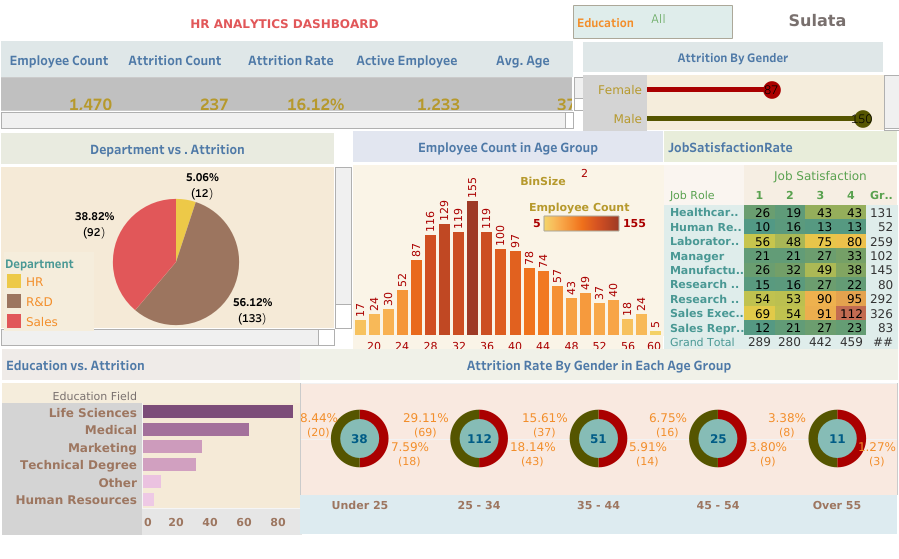

This screenshot's page, from the dashboard's own definition file:
{"tool":"tableau","page":{"name":"HR Analytics Dashboard","canvas":[1000,1000],"units":"permille","ordinal":1},"visuals":[{"type":"filter","title":"Department vs . Attrition","param":"[federated.0rsjfcx0jn54d91c8sx7d0d5vckq].[none:Education:nk]","box":[636.7,8.4,177.8,60.7]},{"type":"text","box":[820,8.4,176.7,55.6]},{"type":"worksheet","title":"KPI","mark":"Automatic","box":[1.1,72.5,655.6,158.5]},{"type":"worksheet","title":"Attrition By Gender","mark":"Automatic","rows":["Gender"],"cols":["Calculation_924645360220266496","Calculation_924645360220266496"],"box":[647.8,74.2,353.3,158.5]},{"type":"worksheet","title":"Employee Count in Age Group","mark":"Automatic","rows":["Employee Count"],"cols":["Age (bin)"],"box":[392.2,234.4,344.4,399.7]},{"type":"worksheet","title":"JobSatisfactionRate","mark":"Square","rows":["Job Role"],"cols":["Job Satisfaction"],"box":[737.8,234.4,258.9,389.5]},{"type":"worksheet","title":"Department vs . Attrition","mark":"Pie","box":[1.1,237.8,390,379.4]},{"type":"parameter","param":"[Parameters].[Parameter 1]","box":[563.3,296.8,168.9,50.6]},{"type":"legend","title":"Employee Count in Age Group","param":"[federated.0rsjfcx0jn54d91c8sx7d0d5vckq].[sum:Employee Count:qk]","box":[587.8,350.8,135.6,75.9]},{"type":"legend","title":"Department vs . Attrition","param":"[federated.0rsjfcx0jn54d91c8sx7d0d5vckq].[none:Department:nk]","box":[4.4,450.2,100,158.5]},{"type":"worksheet","title":"Education vs. Attrition","mark":"Automatic","rows":["Education Field"],"cols":["Calculation_924645360220266496"],"box":[2.2,624,333.3,330.5]},{"type":"worksheet","title":"Attrition Rate By Gender in Each Age Group","mark":"Pie","rows":["Calculation_214765469274640385","Calculation_214765469274640385"],"cols":["CF_age band"],"box":[333.3,624,664.4,332.2]}]}

Visuals, with their boxes on the dashboard's canvas, which has no fixed pixel size, in thousandths of its width and height (x1, y1, x2, y2). These are canvas units, not pixel positions in the 899x559 screenshot, which may show the page scaled, cropped or inside an application window:
"Department vs . Attrition" filter: box=[637, 8, 814, 69]
text: box=[820, 8, 997, 64]
"KPI" worksheet: box=[1, 72, 657, 231]
"Attrition By Gender" worksheet: box=[648, 74, 1001, 233]
"Employee Count in Age Group" worksheet: box=[392, 234, 737, 634]
"JobSatisfactionRate" worksheet (Square marks): box=[738, 234, 997, 624]
"Department vs . Attrition" worksheet (Pie marks): box=[1, 238, 391, 617]
parameter: box=[563, 297, 732, 347]
"Employee Count in Age Group" legend: box=[588, 351, 723, 427]
"Department vs . Attrition" legend: box=[4, 450, 104, 609]
"Education vs. Attrition" worksheet: box=[2, 624, 336, 954]
"Attrition Rate By Gender in Each Age Group" worksheet (Pie marks): box=[333, 624, 998, 956]
